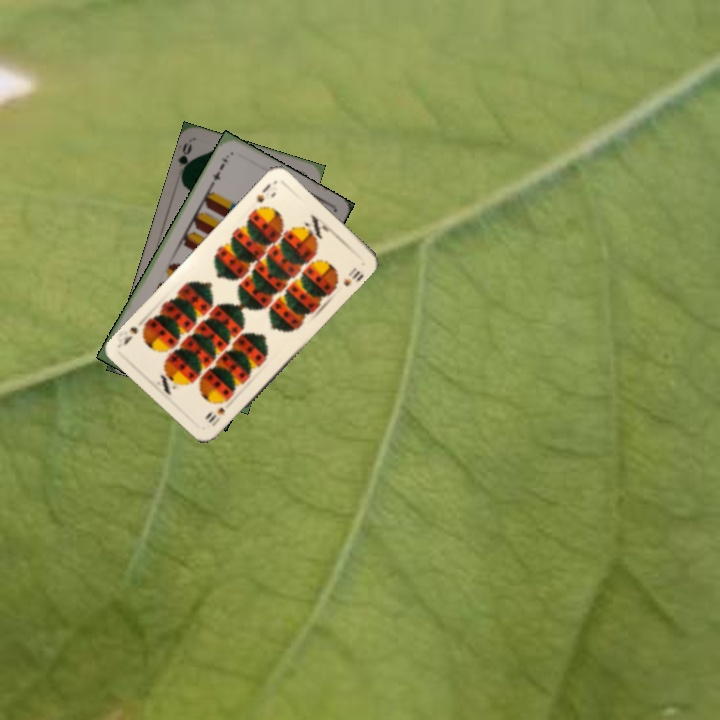E7: (207, 154, 231, 188)
GO: (174, 138, 197, 179)
S10: (204, 403, 228, 429), (252, 179, 274, 205)
